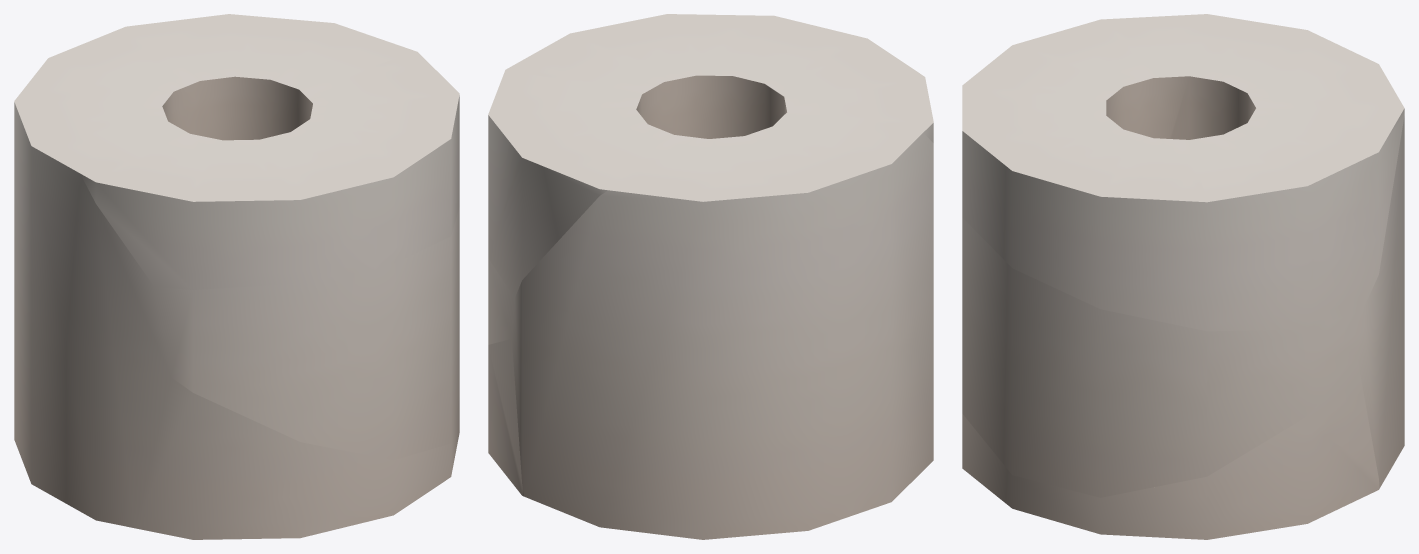
File: M_pq_fragments.FBX
The picture shows the model from 3 angles, left to right: view 1: azimuth 30°, elevation 25°; view 2: azimuth 150°, elevation 25°; view 3: azimuth 270°, elevation 25°; orthographic projection.
Visible parts, largest first — view 1: Tube002_Part_2, Tube002_Part_4, Tube002_Part_3, Tube002_Part_1; view 2: Tube002_Part_4, Tube002_Part_2, Tube002_Part_1, Tube002_Part_3; view 3: Tube002_Part_2, Tube002_Part_3, Tube002_Part_1, Tube002_Part_4.
Boxes of the visible parts, x1,y1,x2,y2 form: Tube002_Part_2: [80, 14, 459, 289]; Tube002_Part_4: [14, 29, 171, 528]; Tube002_Part_3: [154, 207, 459, 460]; Tube002_Part_1: [135, 377, 459, 539]; Tube002_Part_4: [512, 132, 933, 539]; Tube002_Part_2: [488, 14, 933, 297]; Tube002_Part_1: [488, 339, 524, 496]; Tube002_Part_3: [488, 258, 514, 344]; Tube002_Part_2: [962, 18, 1404, 331]; Tube002_Part_3: [962, 218, 1363, 497]; Tube002_Part_1: [962, 357, 1379, 539]; Tube002_Part_4: [1127, 14, 1404, 487].
Bounding box in the file's own units: 10.89 × 10.81 × 9.11.
